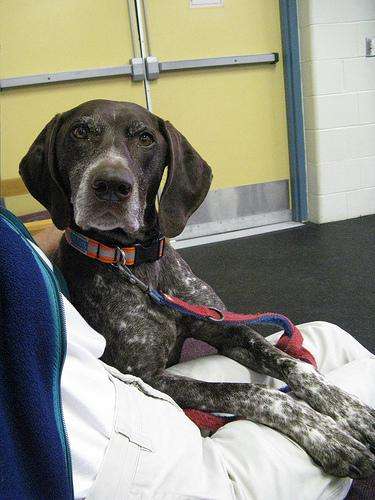dog-german_shorthaired: (18, 98, 212, 237)
